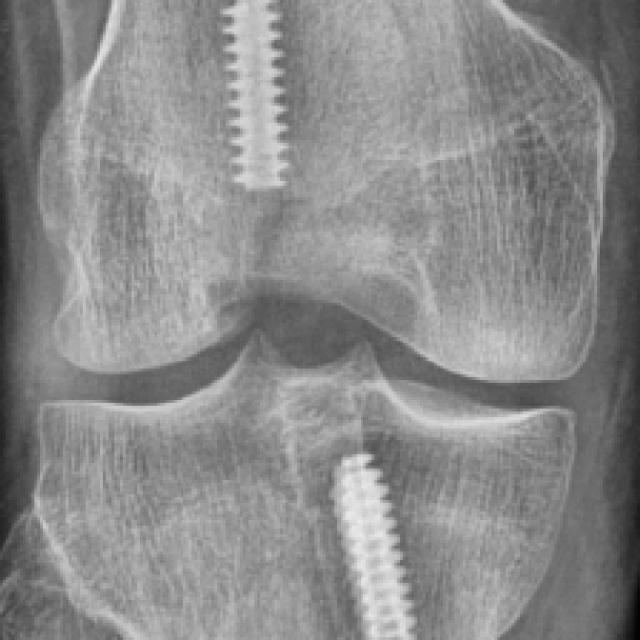femur: (34, 0, 616, 383)
tibia: (35, 330, 576, 640)
